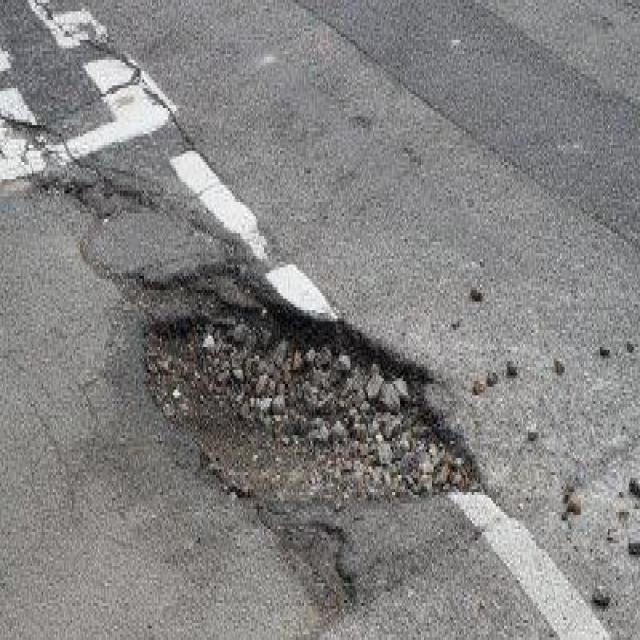jalan retak: (31, 0, 207, 165), (0, 315, 113, 541), (74, 212, 258, 302), (1, 104, 92, 180)
lubang: (104, 256, 488, 555), (287, 513, 376, 623), (32, 160, 165, 228)
